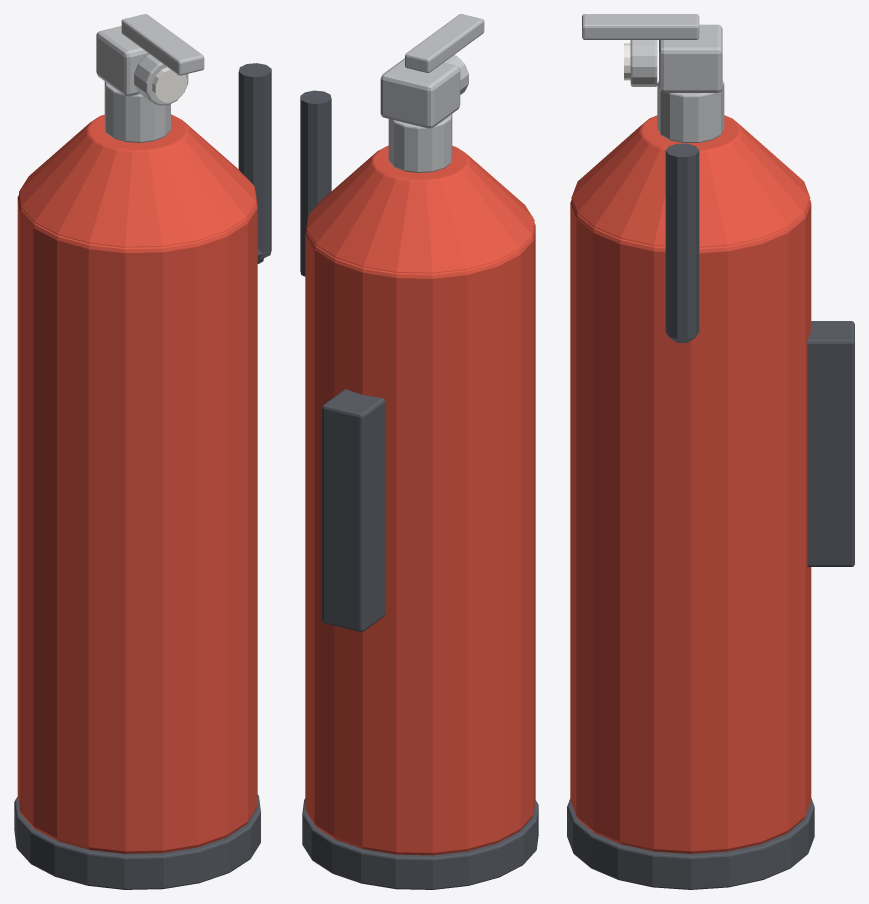
File: fire_extinguisher.glb
3 renders of one model, left to right at view 1: azimuth 30°, elevation 25°; view 2: azimuth 150°, elevation 25°; view 3: azimuth 270°, elevation 25°, orthographic. The views are drawn at different scales.
Parts seen in each view (by area): view 1: FireExtinguisher; view 2: FireExtinguisher; view 3: FireExtinguisher.
Boxes of the visible parts, bbox=[...] form: FireExtinguisher: bbox=[14, 14, 271, 889]; FireExtinguisher: bbox=[300, 14, 538, 889]; FireExtinguisher: bbox=[567, 14, 854, 889].
Bounding box in the file's own units: 0.1938 × 0.648 × 0.2064.
